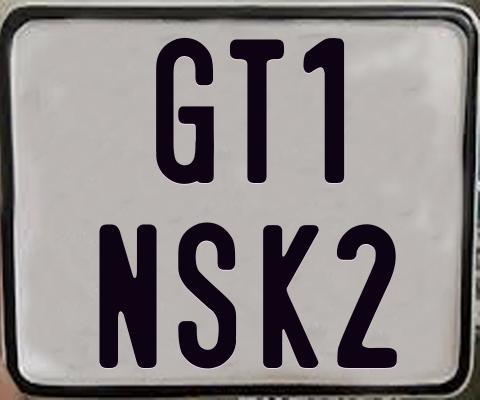1: (303, 38, 346, 188)
2: (336, 222, 396, 370)
G: (156, 38, 218, 190)
K: (263, 224, 319, 368)
N: (97, 221, 155, 365)
S: (176, 220, 234, 366)
T: (230, 38, 289, 185)
